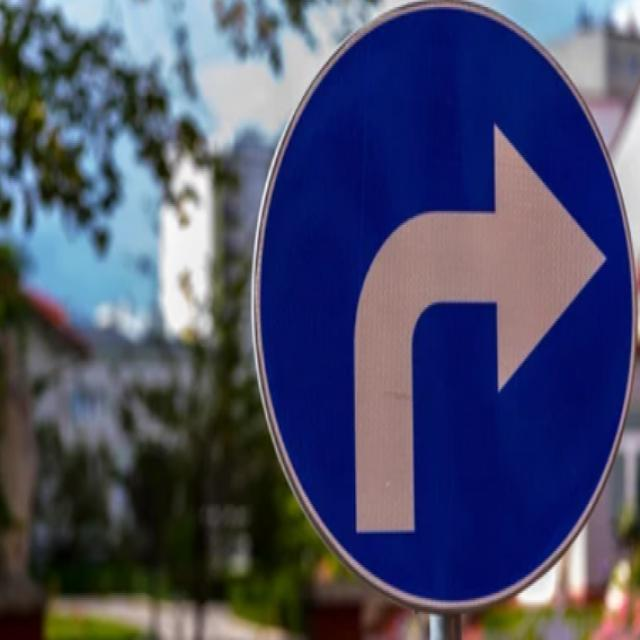RIGHT: (252, 0, 635, 610)
